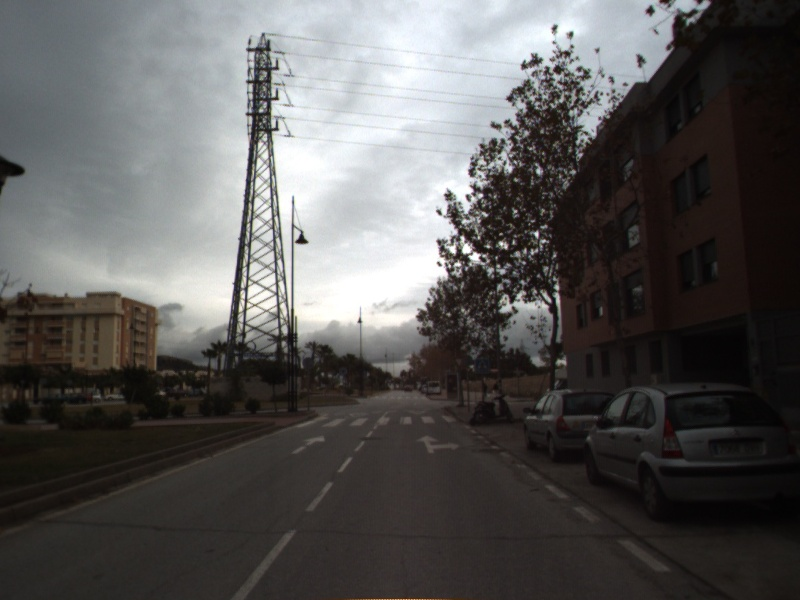STRAIGHT: (289, 433, 327, 456)
STRAIGHT_RIGHT: (414, 433, 462, 456)
